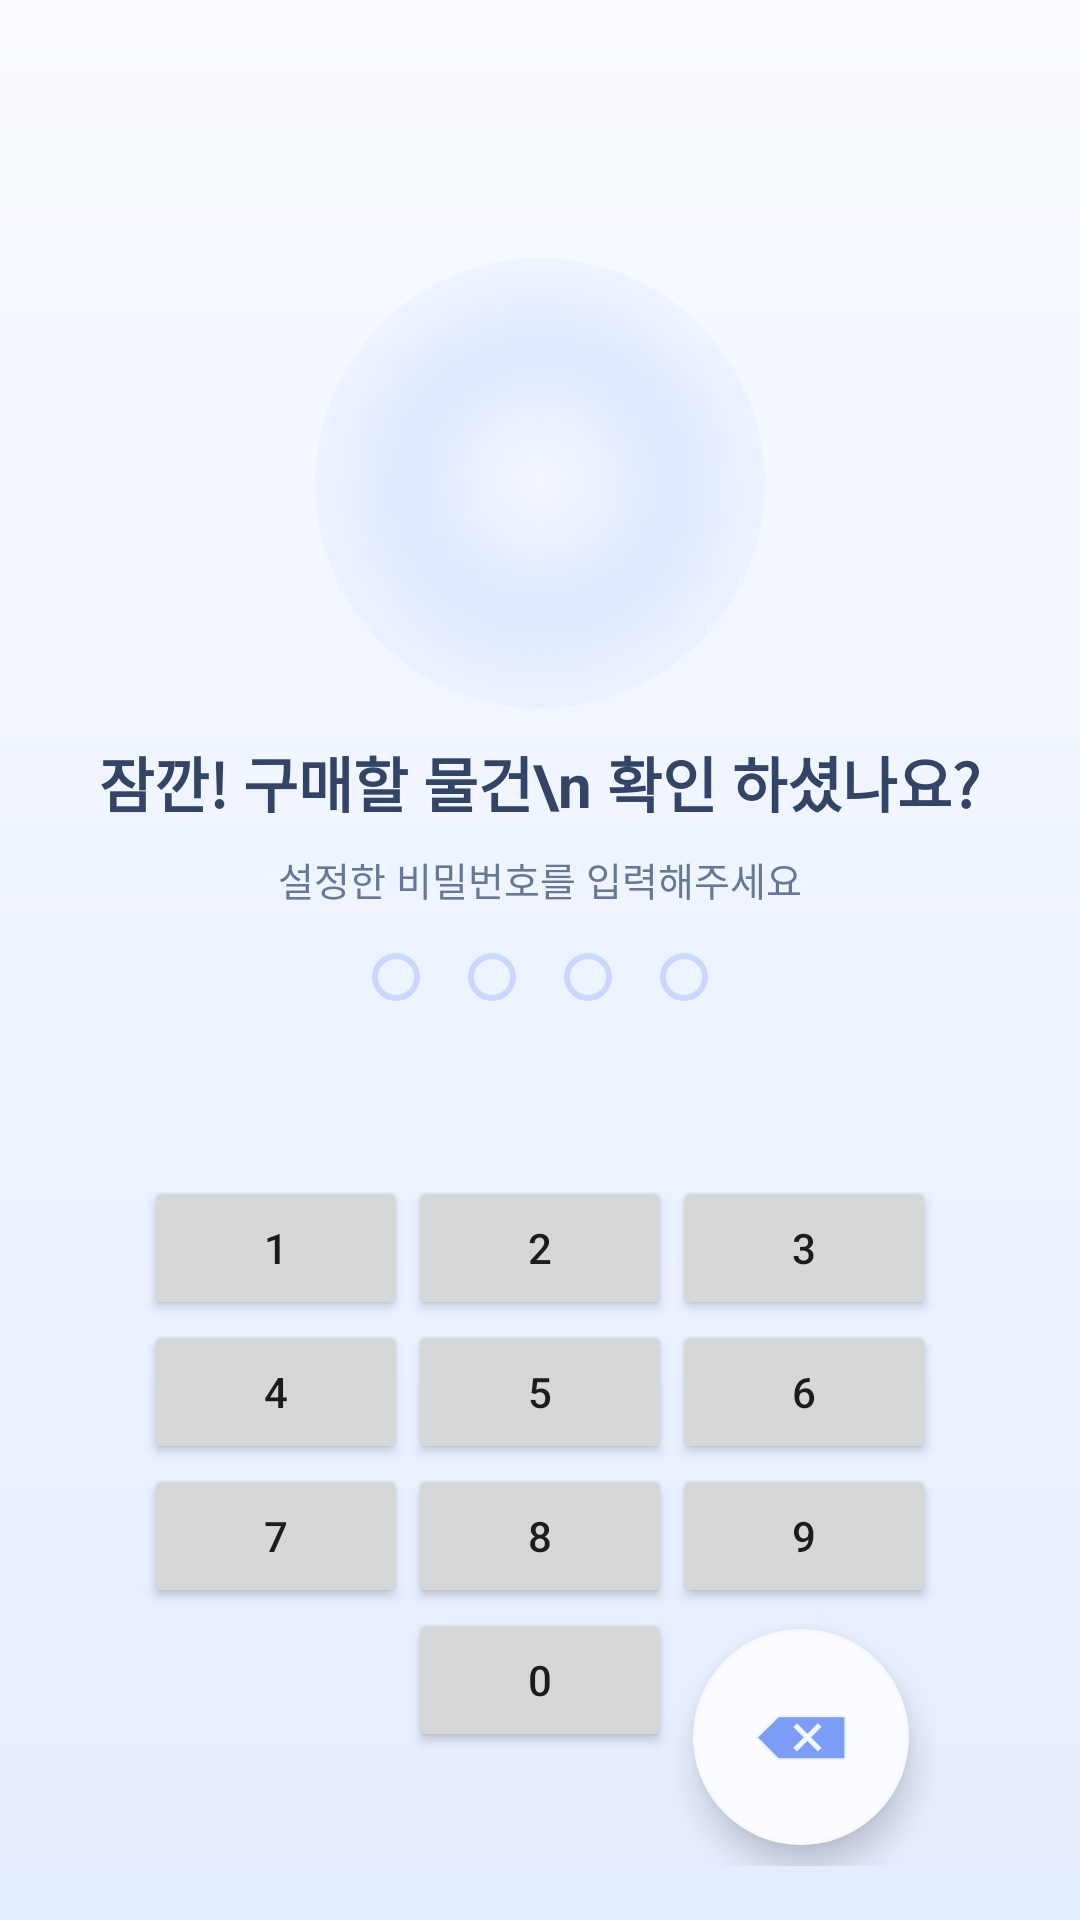

Icon click points for this 1080px x 1920px phone screenshot, format point (x, y):
delete: point (801, 1737)
pin dot off: point (396, 977), point (492, 977), point (588, 977), point (684, 977)
